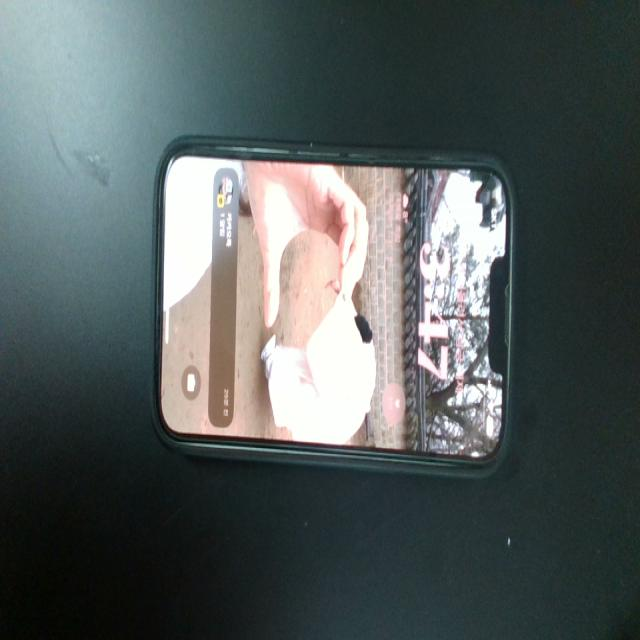phone: (135, 110, 523, 498)
